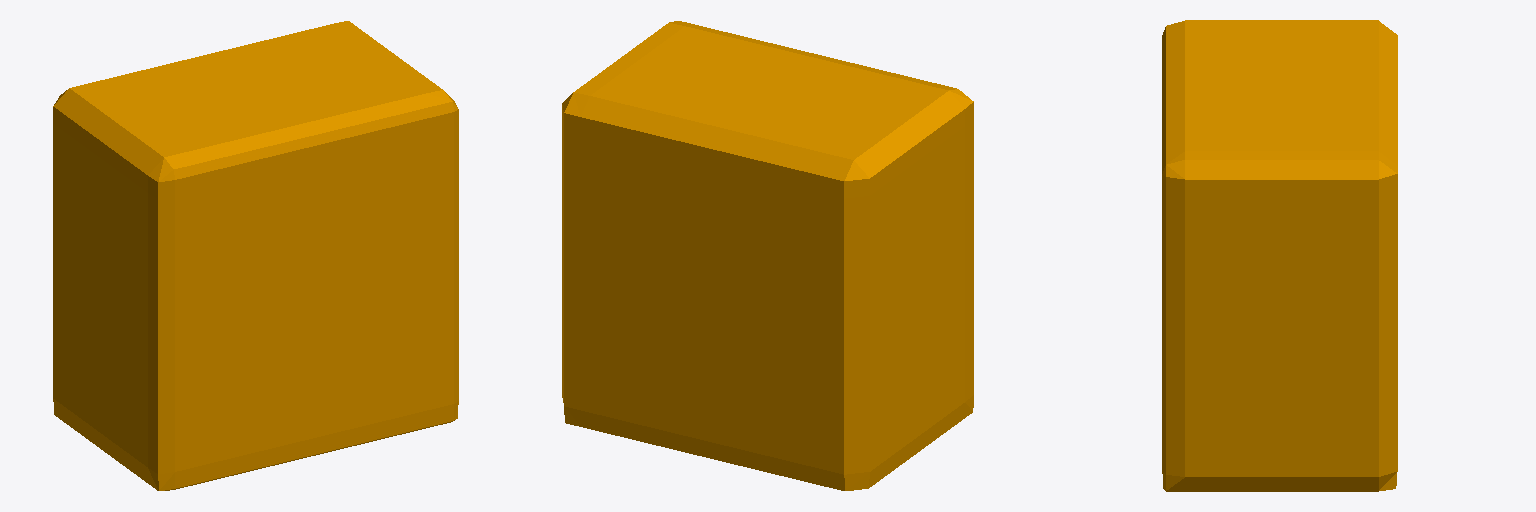
The robot description file, URDF, robot "cylinder_box_46":
<?xml version="1.0" encoding="utf-8"?>  <robot name="cylinder_box_46">   <link name="cylinder_box_46">     <visual>       <geometry>         <mesh filename="../meshes/box/box_46.stl" scale="1 1 1"/>       </geometry>     </visual>     <collision>       <geometry>         <mesh filename="../meshes/box/box_46.stl" scale="1 1 1"/>       </geometry>     </collision>     <inertial>        <origin         xyz="0 0 0"         rpy="0 0 0" />       <mass value="0.5327723839555406"/>       <origin rpy="0 0 0" xyz="0 0 0"/>       <inertia ixx="0.0005566684351433791" ixy="-7.696935636936001e-07" ixz="-7.383665355789006e-07" iyy="0.000776011609203942" iyz="2.114375452060895e-07" izz="0.0005435689971629466"/>     </inertial>   </link>  </robot>

--- Facts derived from the render (not from the file) ---
The picture shows the robot from 3 angles, left to right: view 1: azimuth 30°, elevation 25°; view 2: azimuth 150°, elevation 25°; view 3: azimuth 270°, elevation 25°; orthographic projection.
Model cylinder_box_46 with 1 links and 0 joints (none), rooted at cylinder_box_46, posed every joint at zero.
Visible links, largest first — view 1: cylinder_box_46; view 2: cylinder_box_46; view 3: cylinder_box_46.
Link boxes in pixels (left/top/right/bottom): cylinder_box_46: left=53, top=21, right=458, bottom=490; cylinder_box_46: left=562, top=21, right=973, bottom=490; cylinder_box_46: left=1162, top=20, right=1397, bottom=491.
Size in the robot's own frame: 0.0934 by 0.0609 by 0.0948 metres.
1 mesh visuals loaded from 1 distinct referenced files (1 binary STL).